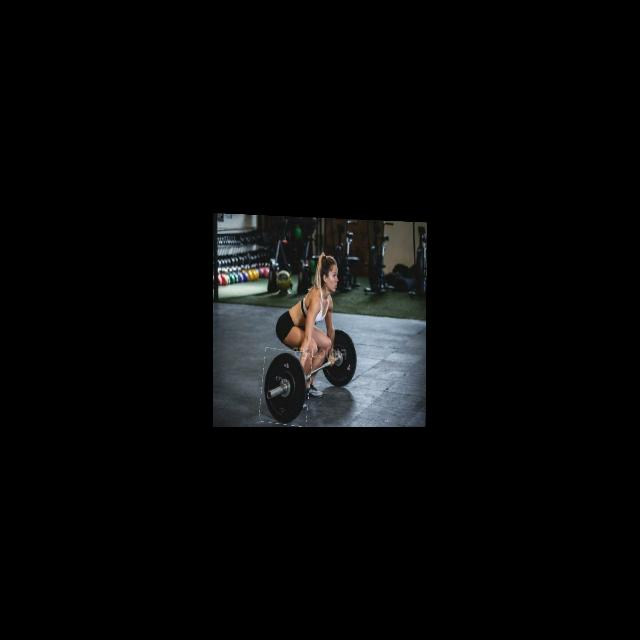barbell: (261, 348, 311, 425)
